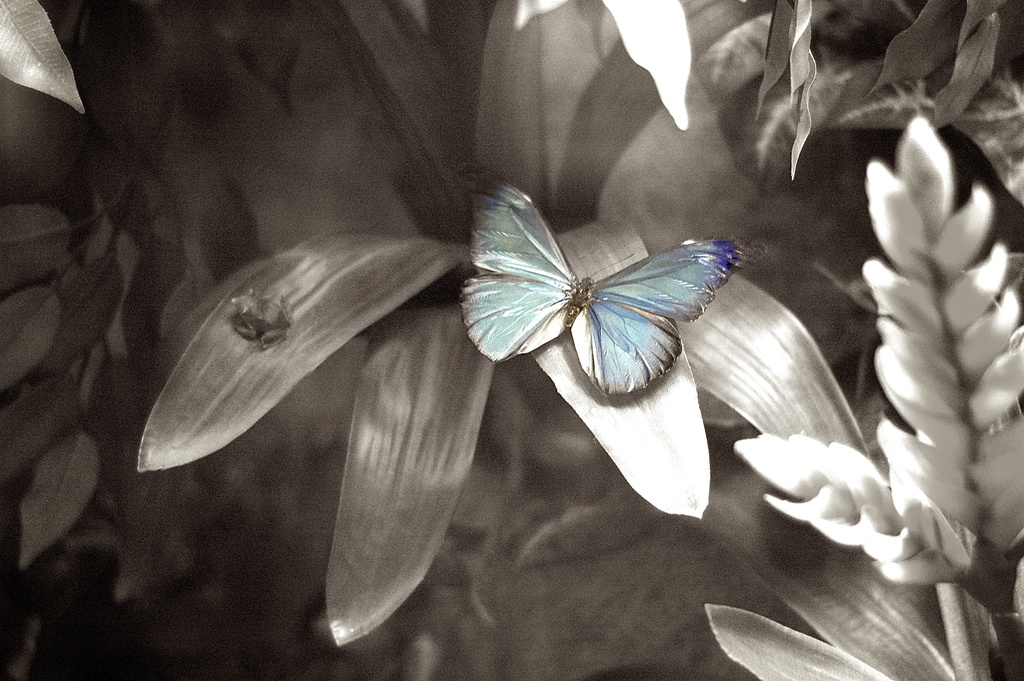Butterfly: (444, 165, 768, 419)
